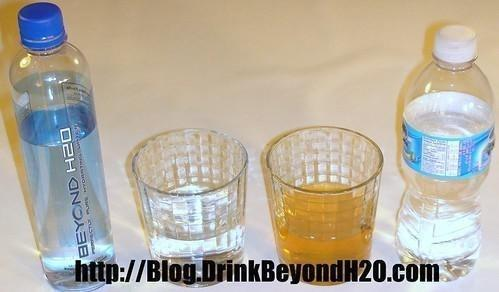bottle-plastic: (9, 2, 117, 291), (396, 21, 498, 286)
cup-handle: (127, 124, 253, 290), (260, 125, 386, 288)
